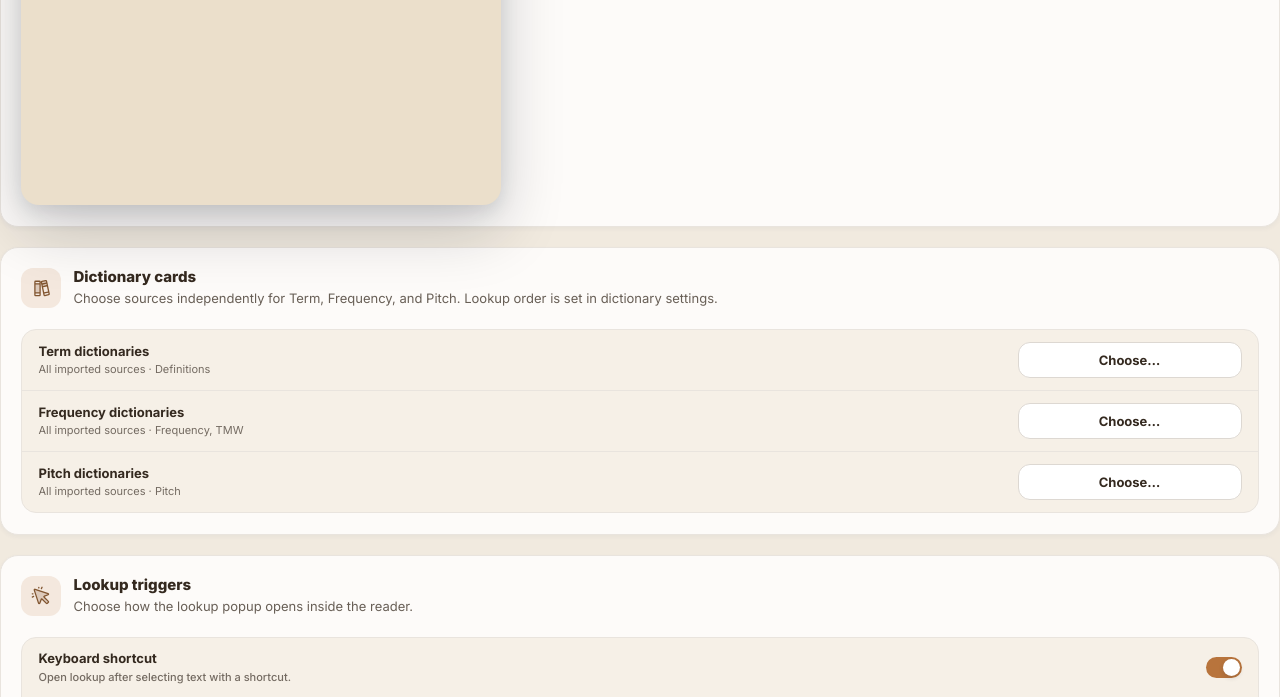
popup source policies › shows a frequency source with empty term placeholders only in its actual role
The width and height of the screenshot is (1280, 697).
(page scrolled)
Click the button with aria-label "Select term dictionaries" at (1130, 360), box [1018,342,1242,378]
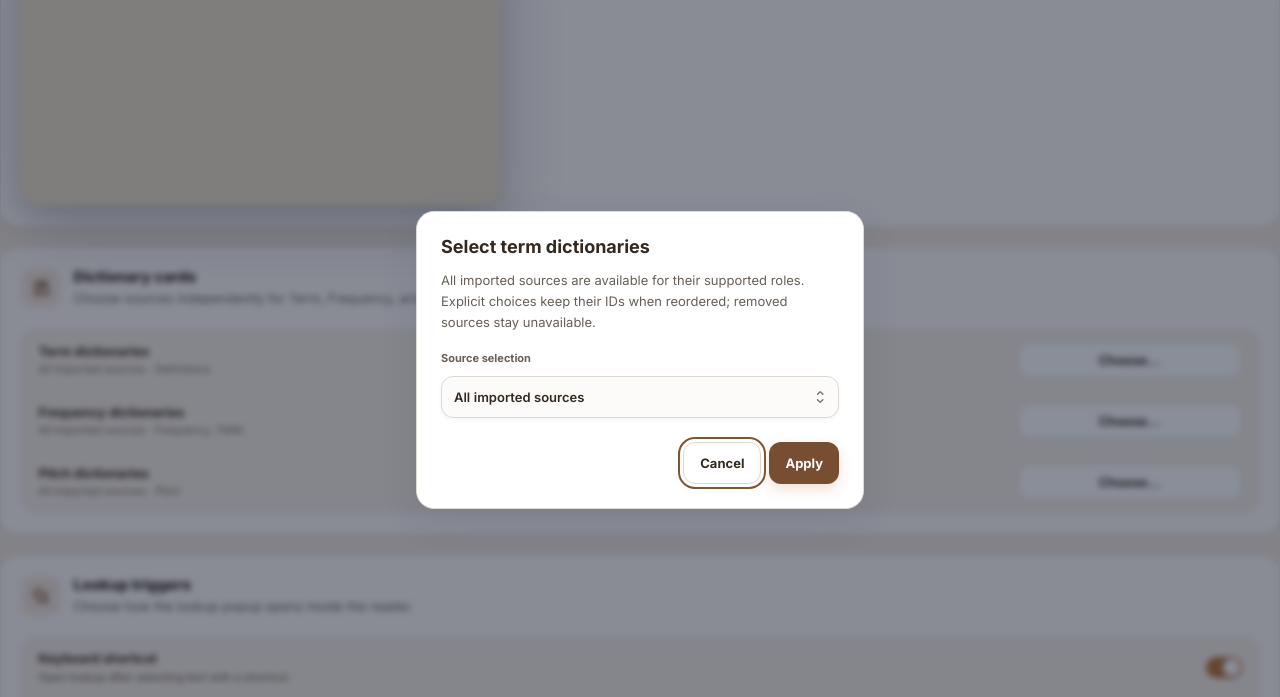
Select "Selected sources" in the dropdown labelled "Source selection" at (640, 397), box [441,376,839,418]
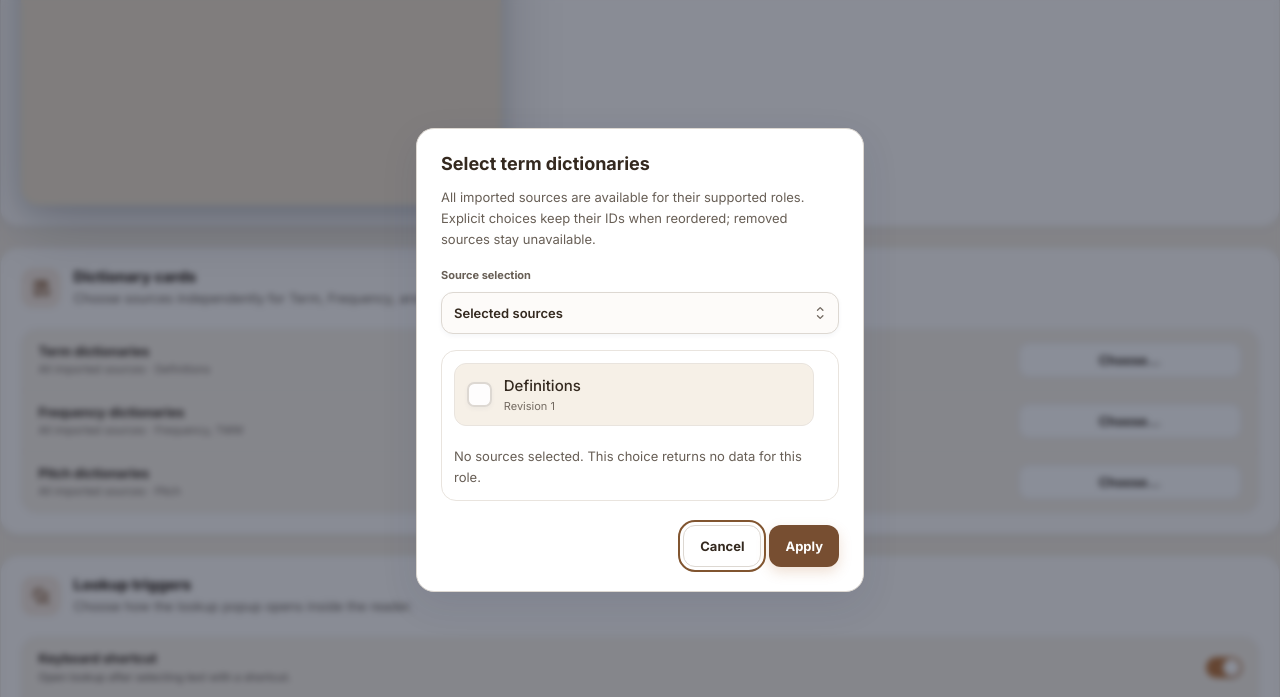
Click the button "Cancel" at (722, 546), box [683,525,761,567]
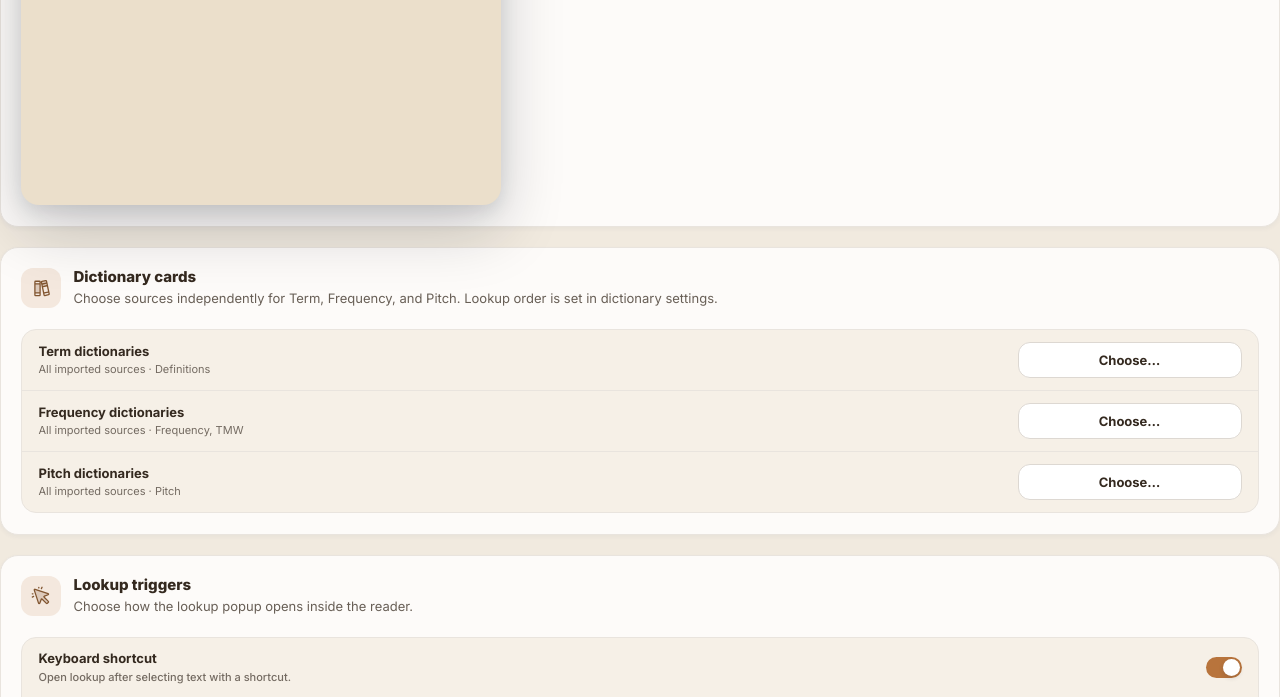
Click the button with aria-label "Select frequency dictionaries" at (1130, 421), box [1018,403,1242,439]
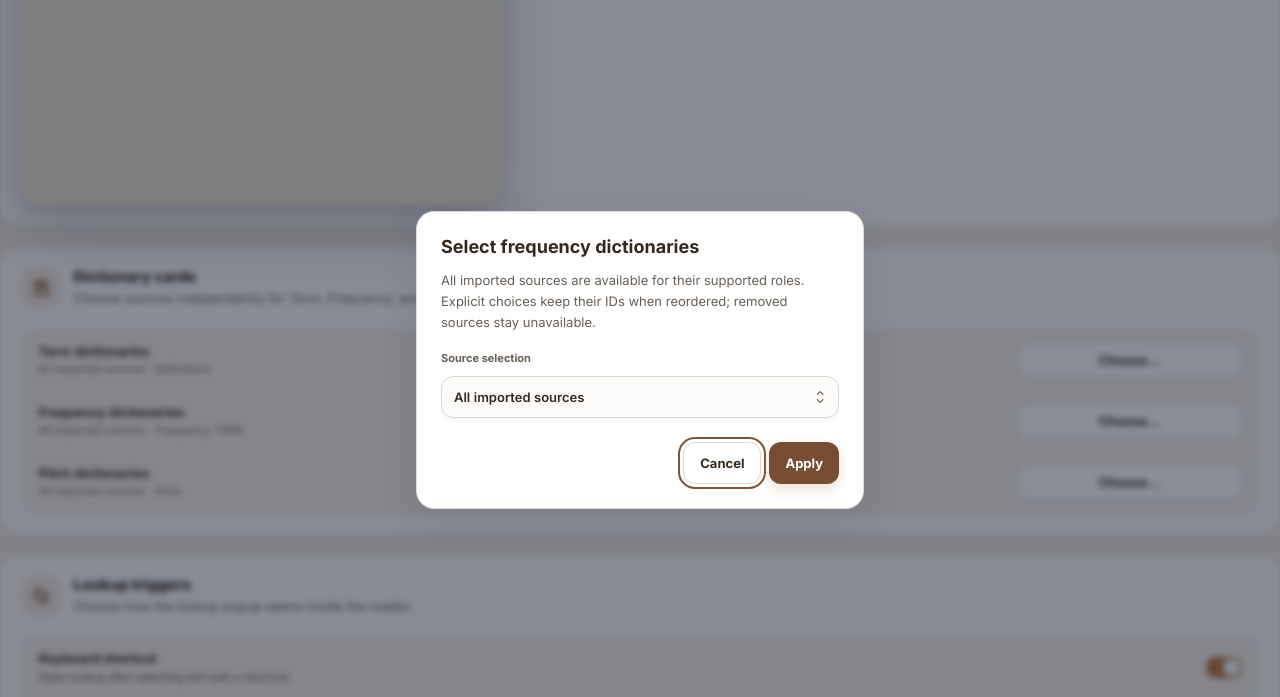
Select "Selected sources" in the dropdown labelled "Source selection" at (640, 397), box [441,376,839,418]
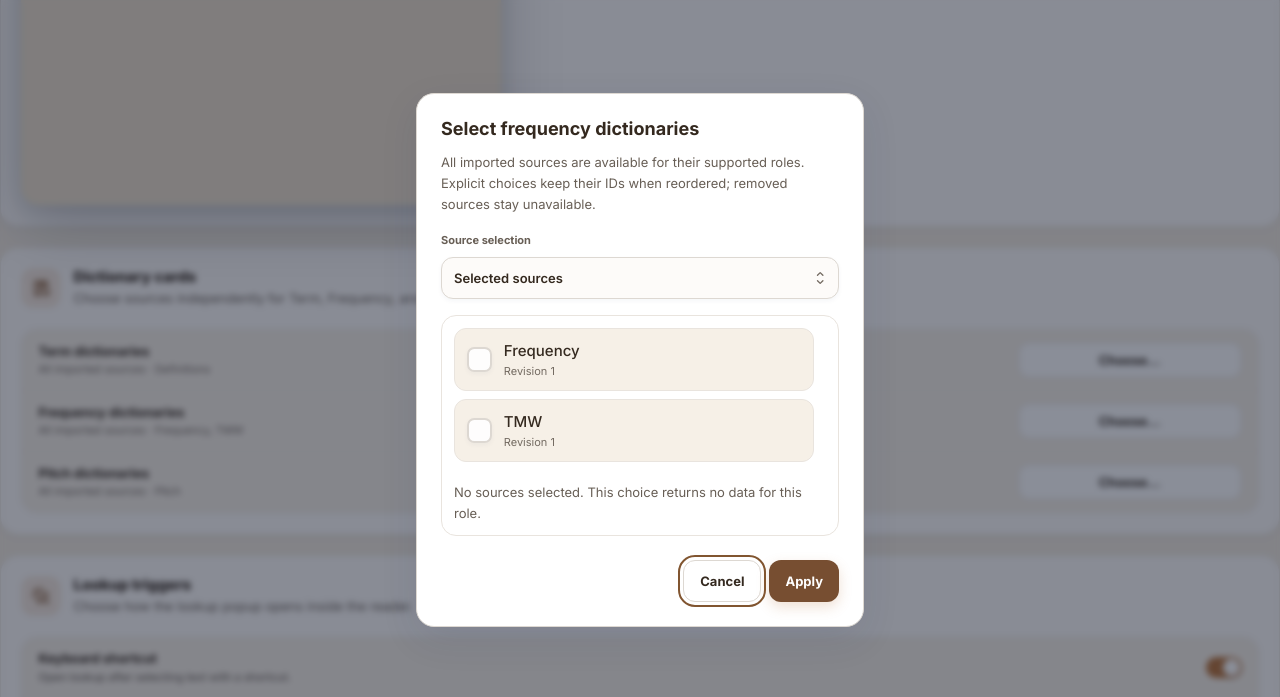
Expected: the text "TMW" is shown, [504,412,542,431]
